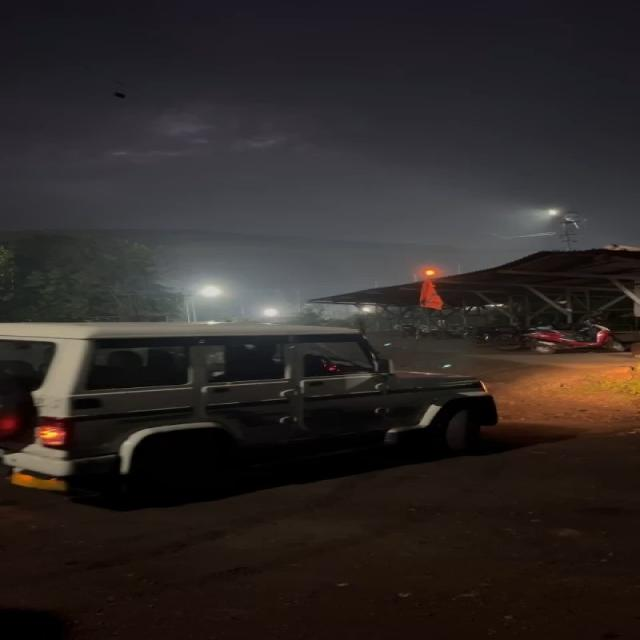light_vehicle: (6, 321, 506, 504)
